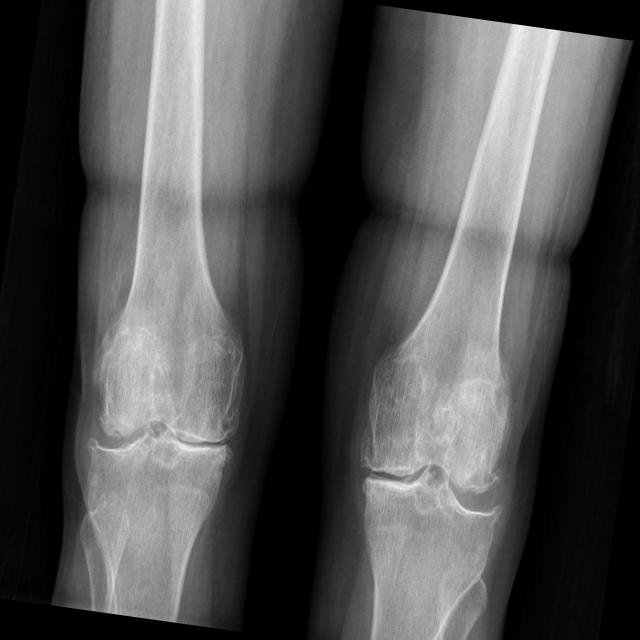Knee: (344, 358, 522, 568), (75, 322, 251, 534)
